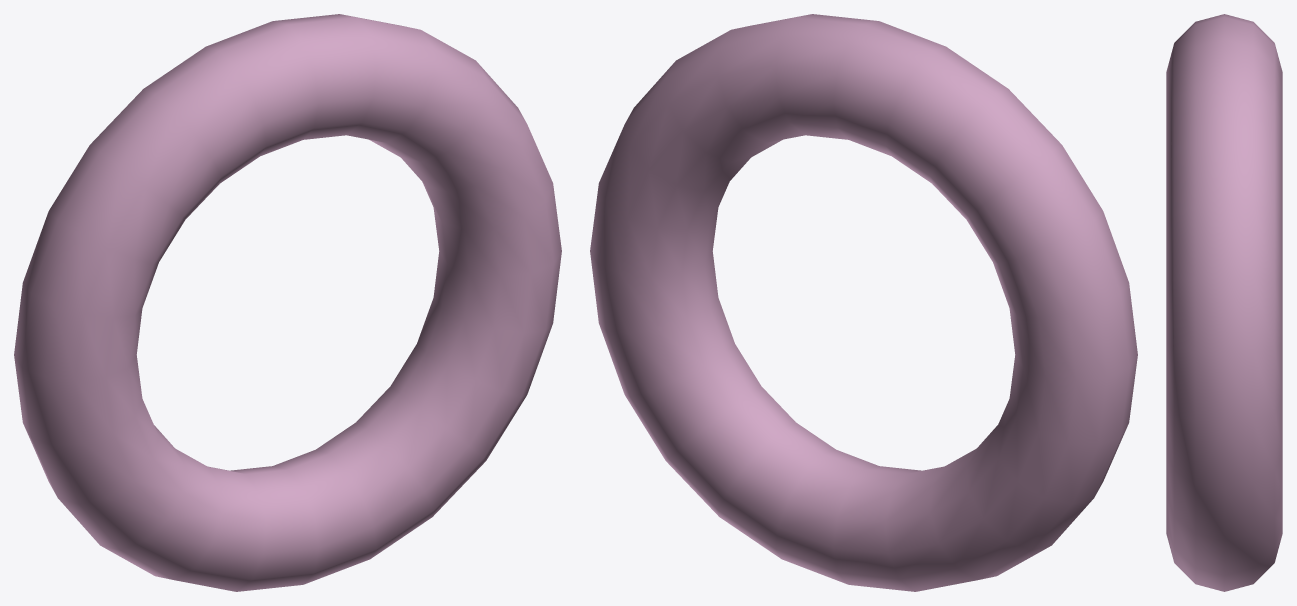
3 views of the same model, side by side, from view 1: azimuth 30°, elevation 25°; view 2: azimuth 150°, elevation 25°; view 3: azimuth 270°, elevation 25° (orthographic). The views are drawn at different scales.
Visible parts, largest first — view 1: Torus.006; view 2: Torus.006; view 3: Torus.006.
Part boxes in pixels (x1=…): Torus.006: x1=14, y1=14, x2=561, y2=591; Torus.006: x1=590, y1=14, x2=1137, y2=591; Torus.006: x1=1166, y1=14, x2=1282, y2=591.
Bounding box in the file's own units: 0.5607 × 0.5607 × 0.1121.
